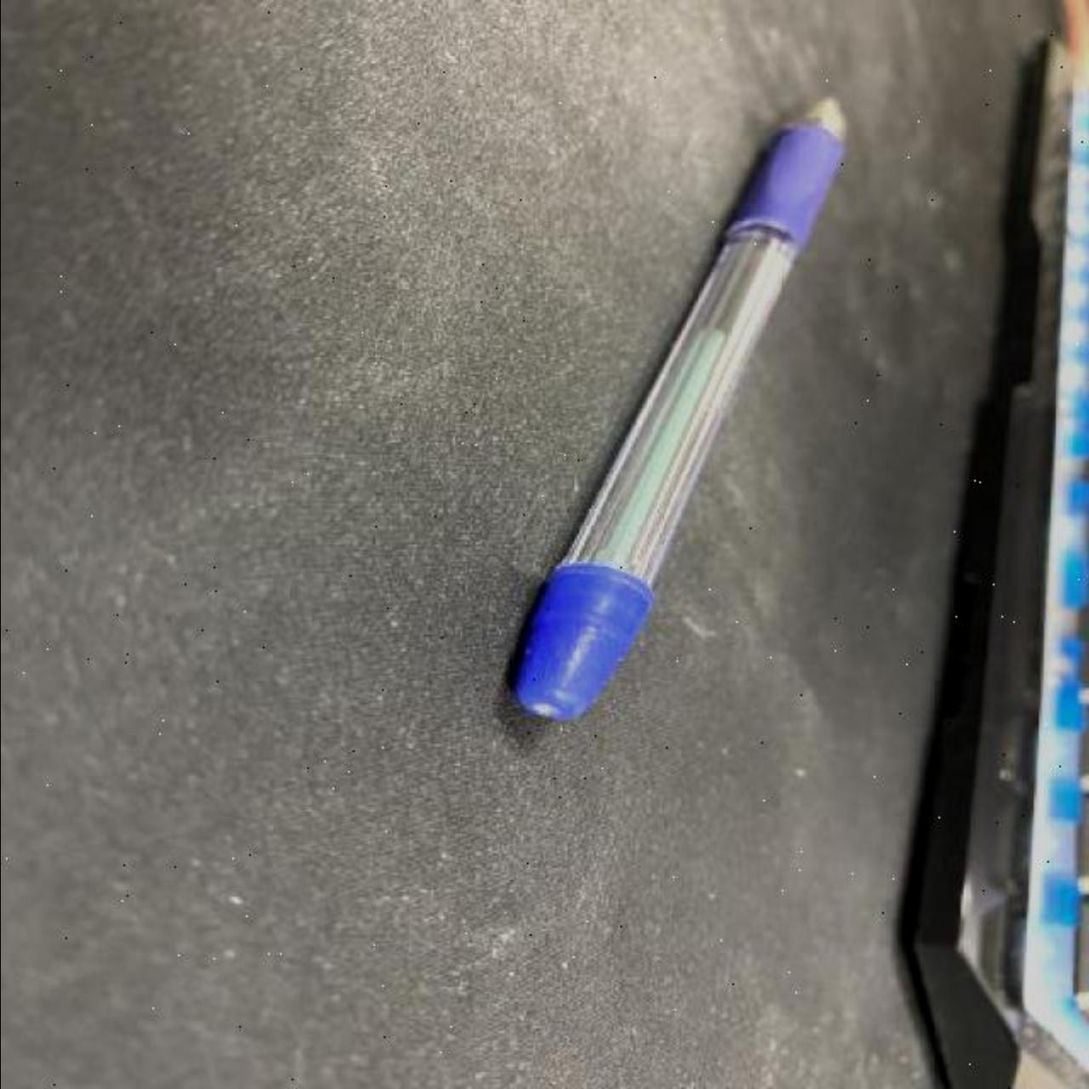pen: (507, 90, 847, 720)
